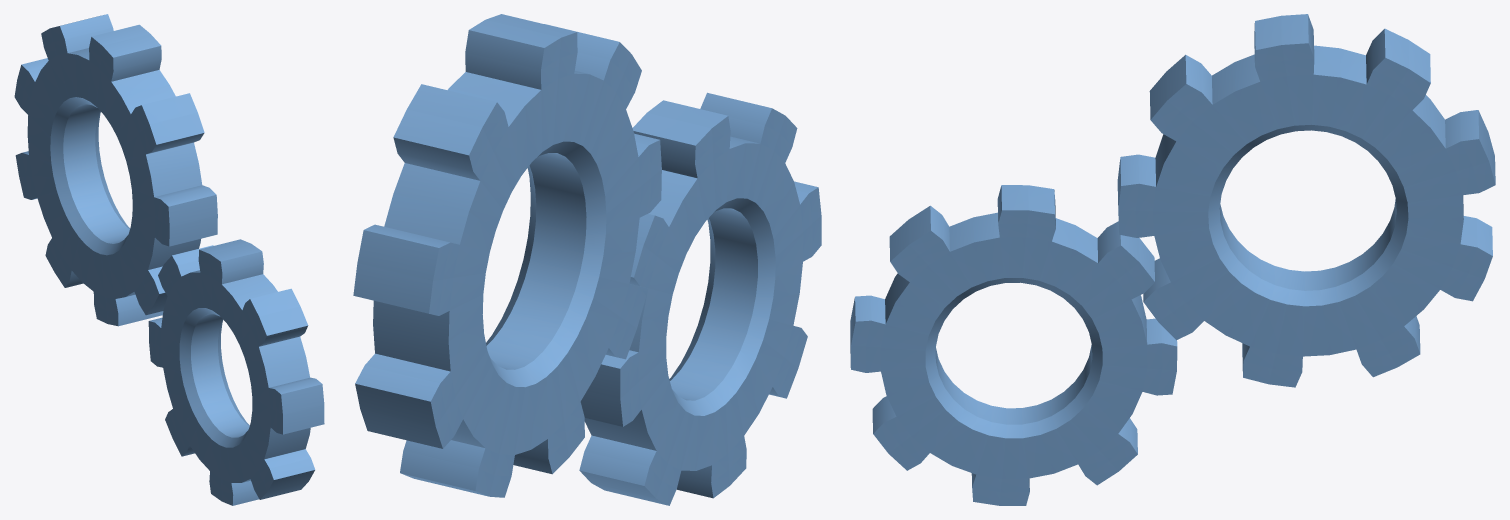
Rendered from anim_upgrade.fbx.
3 renders of one model, left to right at view 1: azimuth 30°, elevation 25°; view 2: azimuth 150°, elevation 25°; view 3: azimuth 270°, elevation 25°, orthographic. The views are drawn at different scales.
Visible parts, largest first — view 1: anim_upgrade; view 2: anim_upgrade; view 3: anim_upgrade.
Part boxes in pixels (x1=…): anim_upgrade: x1=14, y1=14, x2=324, y2=505; anim_upgrade: x1=353, y1=14, x2=821, y2=505; anim_upgrade: x1=850, y1=14, x2=1495, y2=505.
Size of the model in its own units: 61.85 by 434 by 548.
